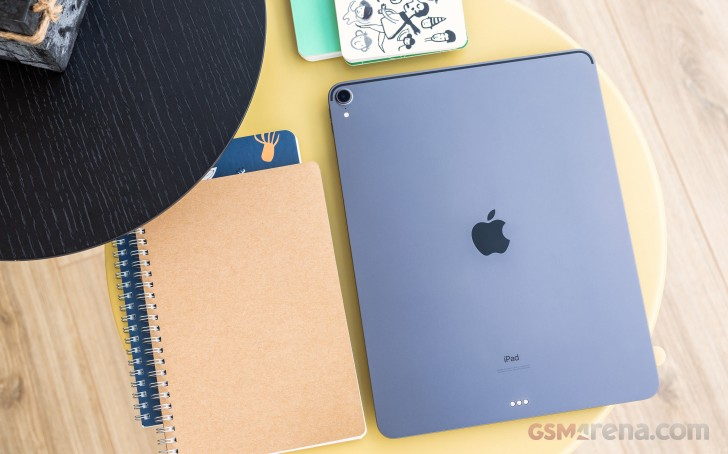apple: (441, 190, 530, 269)
